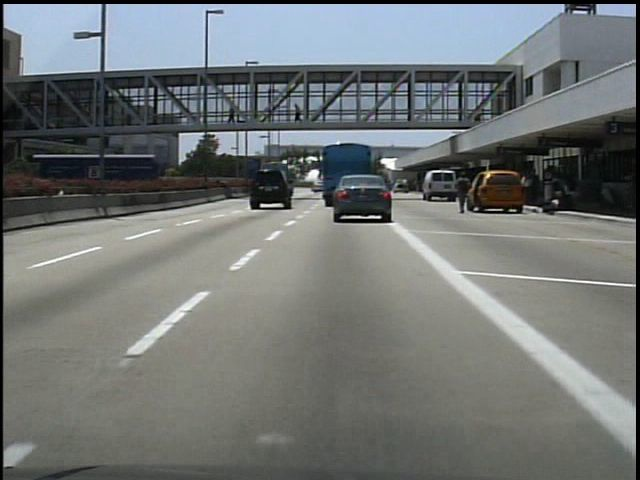person: (454, 170, 476, 219), (292, 102, 306, 130), (224, 101, 240, 125)
